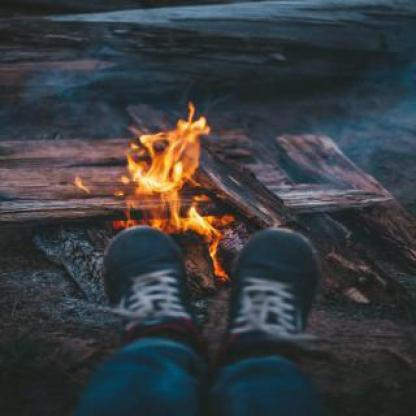Fire: (103, 96, 204, 242)
